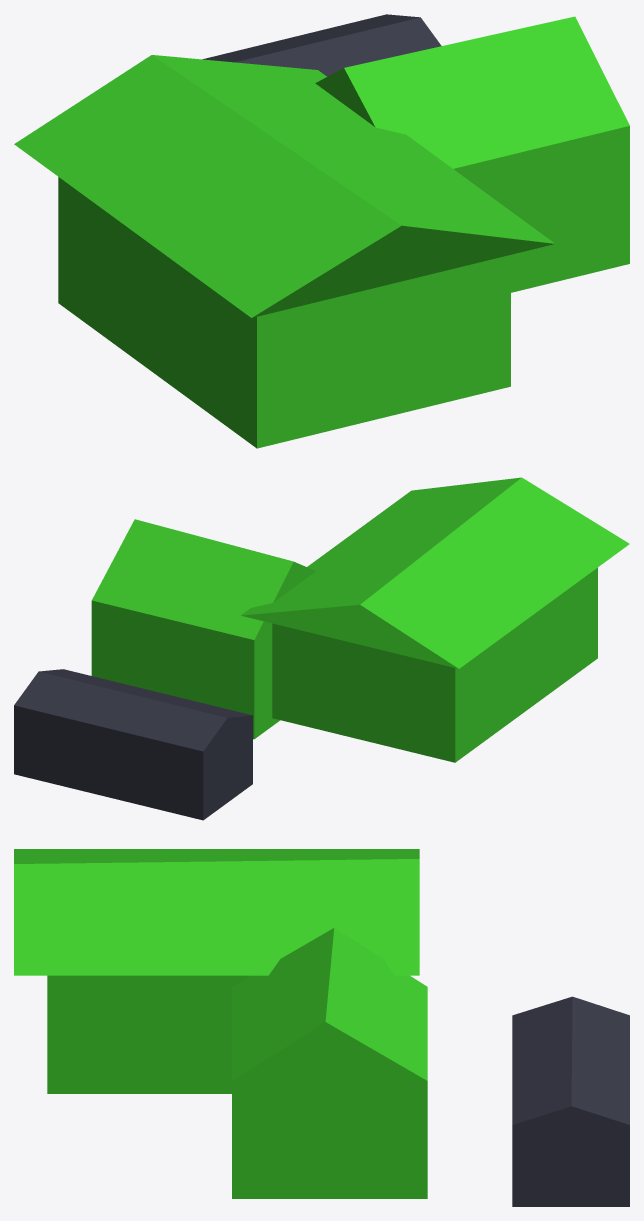
The model's file is workshop.glb.
3 renders of one model, top to bottom at view 1: azimuth 30°, elevation 25°; view 2: azimuth 150°, elevation 25°; view 3: azimuth 270°, elevation 25°, orthographic. The views are drawn at different scales.
Visible parts, largest first — view 1: Cube.025, Cube.022, Cube.026; view 2: Cube.025, Cube.022, Cube.026; view 3: Cube.025, Cube.022, Cube.026.
Boxes of the visible parts, <box> form: Cube.025: <box>14,55,554,448</box>; Cube.022: <box>315,16,629,292</box>; Cube.026: <box>203,14,441,76</box>; Cube.025: <box>241,477,629,762</box>; Cube.022: <box>91,519,315,739</box>; Cube.026: <box>14,669,252,820</box>; Cube.025: <box>14,849,419,1093</box>; Cube.022: <box>232,928,427,1198</box>; Cube.026: <box>512,996,629,1206</box>.
Size of the model in its own units: 12.89 by 5.67 by 15.91.
